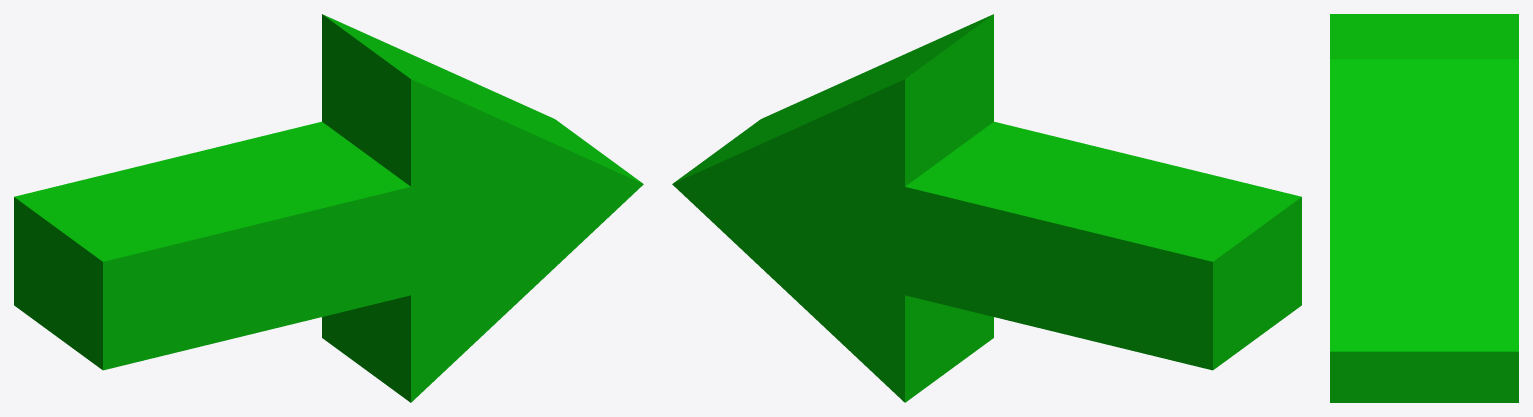
The model's file is arrow.gltf.
The picture shows the model from 3 angles, left to right: view 1: azimuth 30°, elevation 25°; view 2: azimuth 150°, elevation 25°; view 3: azimuth 270°, elevation 25°; orthographic projection. The views are drawn at different scales.
Parts seen in each view (by area): view 1: Arrow; view 2: Arrow; view 3: Arrow.
Part boxes in pixels (x1,y1,x2,y2): Arrow: [14, 14, 643, 402]; Arrow: [672, 14, 1301, 402]; Arrow: [1330, 14, 1518, 402].
Bounding box in the file's own units: 7.02 × 4.02 × 2.
